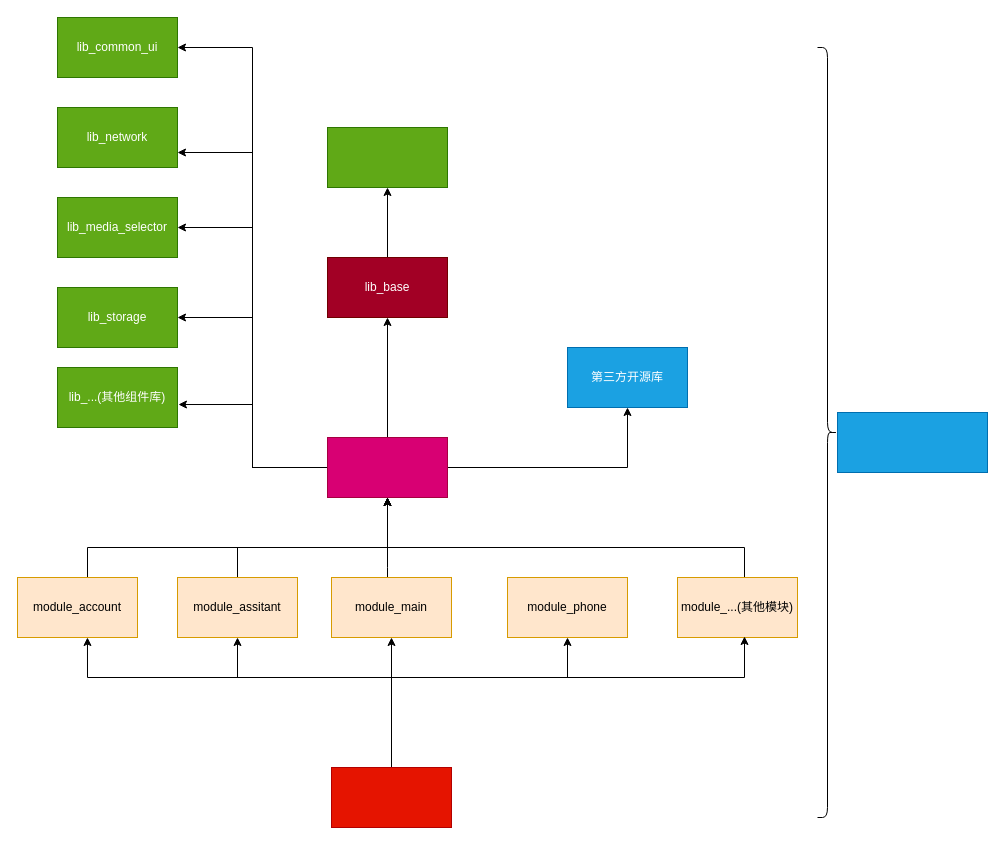
This 1005x845 diagram has some shape labels left out. The shapes that lost their labels are listed below. From the top down, each one's centre as x and y in pixels, then its label:
At (x=387, y=157): "lib_foundation".
At (x=912, y=442): "编译期插件(埋点/统计)".
At (x=387, y=467): "module_sdk".
At (x=391, y=797): "app".
